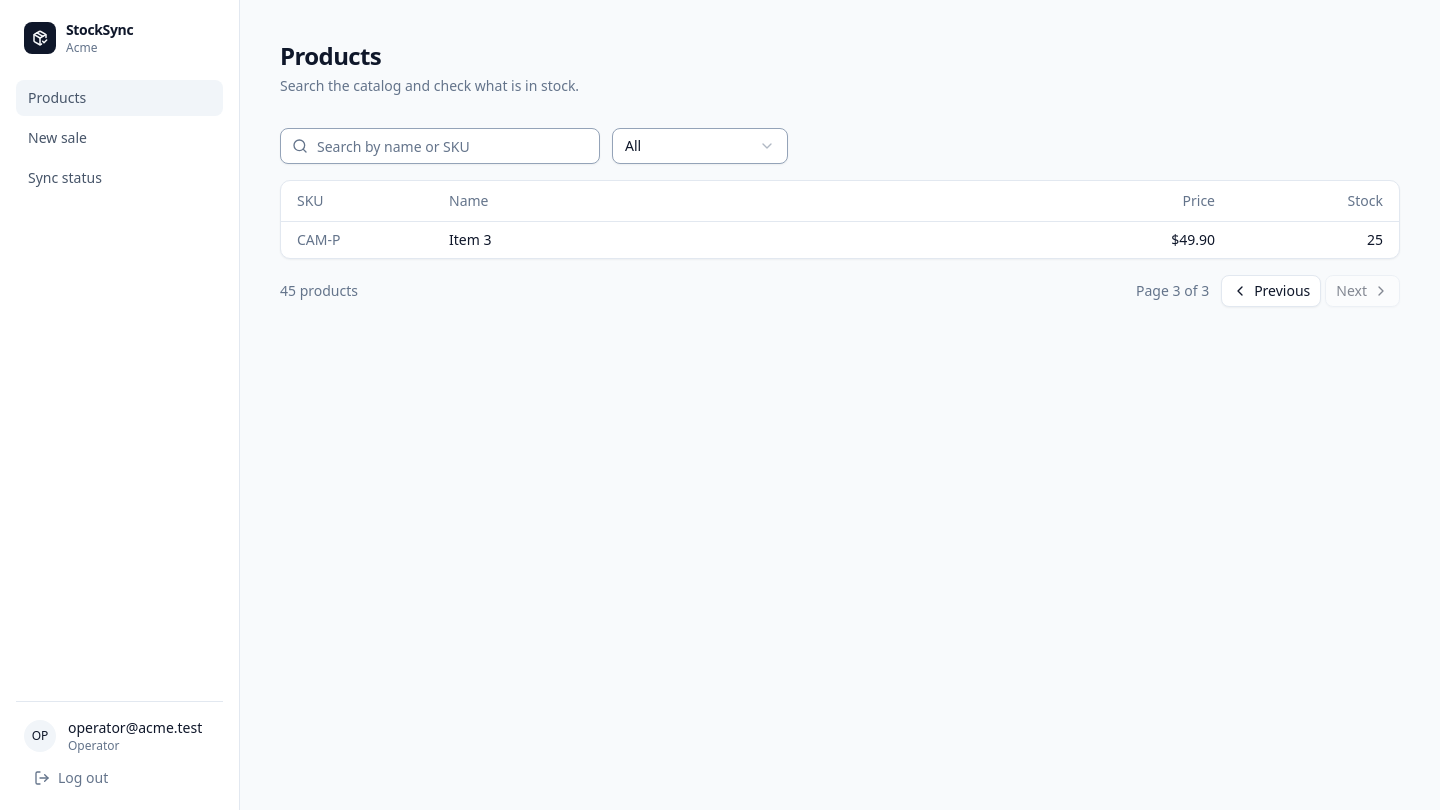
Test: products pagination › goes from page 3 to page 2 with Previous
Expected: the text "Item 3" is shown, [441, 221, 1095, 258]
Click the button "Previous" at (1271, 290), box [1221, 274, 1321, 306]
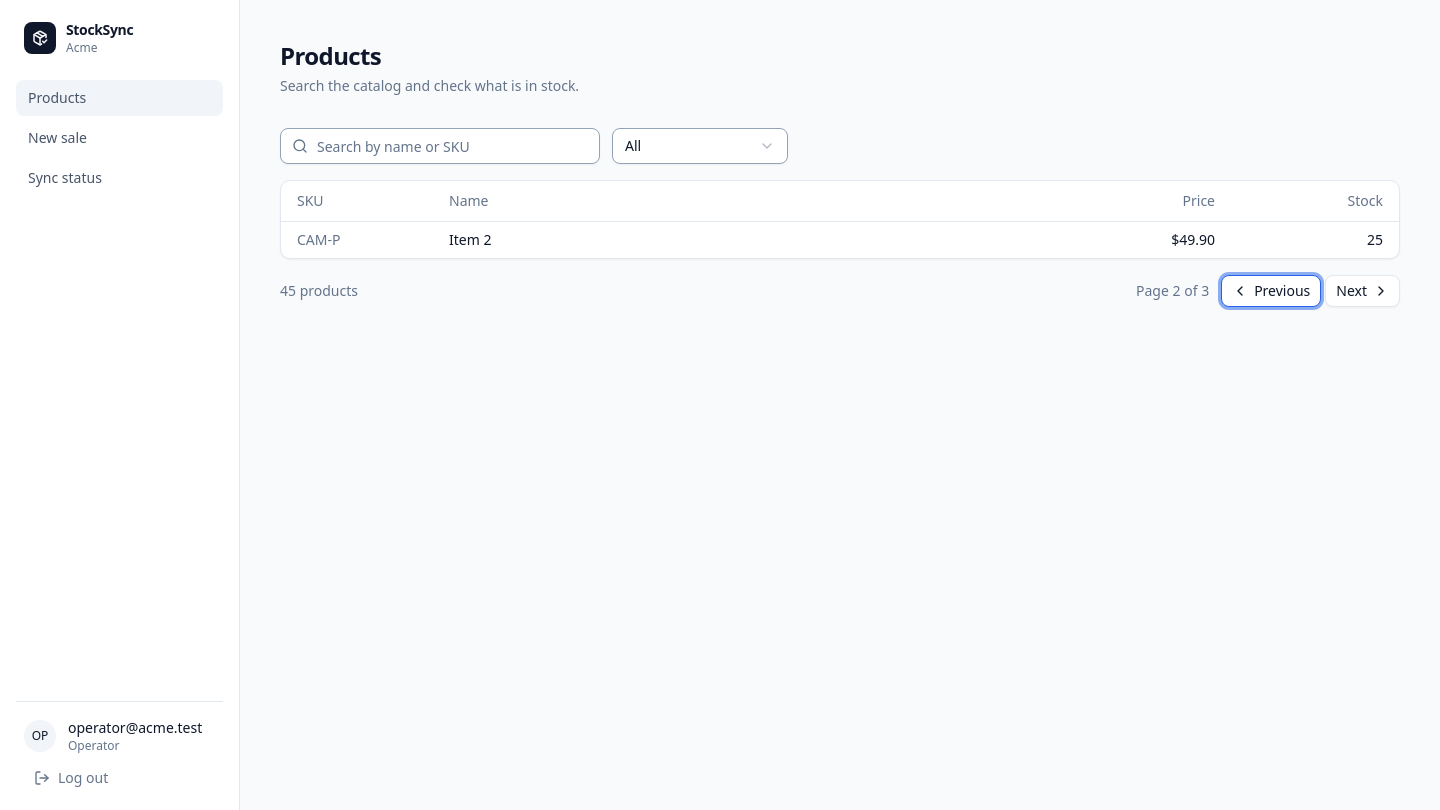
Result: the text "Item 2" is shown at [441, 221, 1095, 258]
